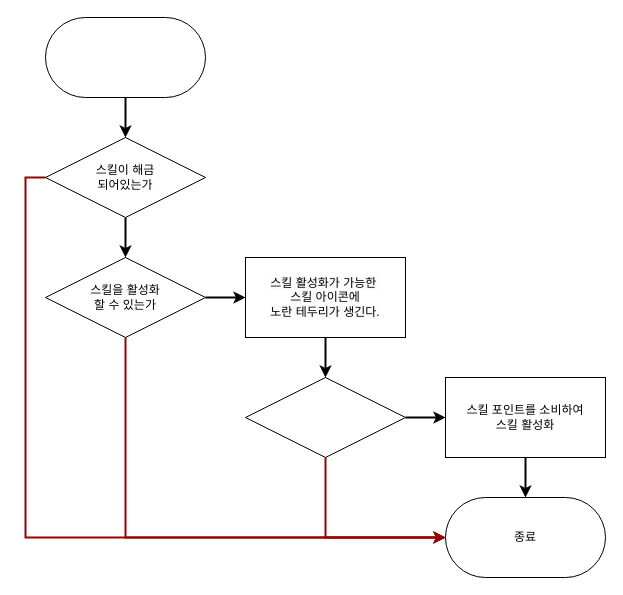
The diagram is 623 pixels wide and 595 high, and some of its shapes have lost their labels. Here are the shapes that lost their labels. From the top down, the centre of each, then its label:
point (125, 57): 스킬 활성화 시작
point (325, 417): 스킬을 활성화 했는가
